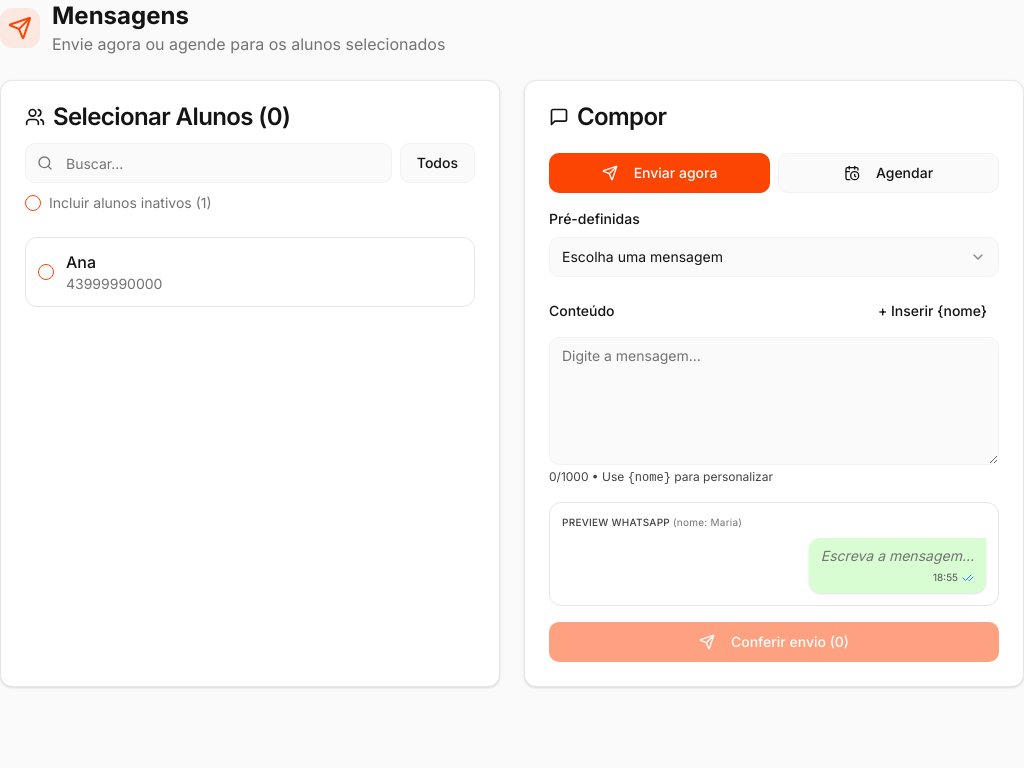
Test: requires acknowledgement of shared WhatsApp and inactive recipients
Click the checkbox named "Incluir alunos inativos". click: coordinates (33, 203)
box: [25, 195, 41, 211]
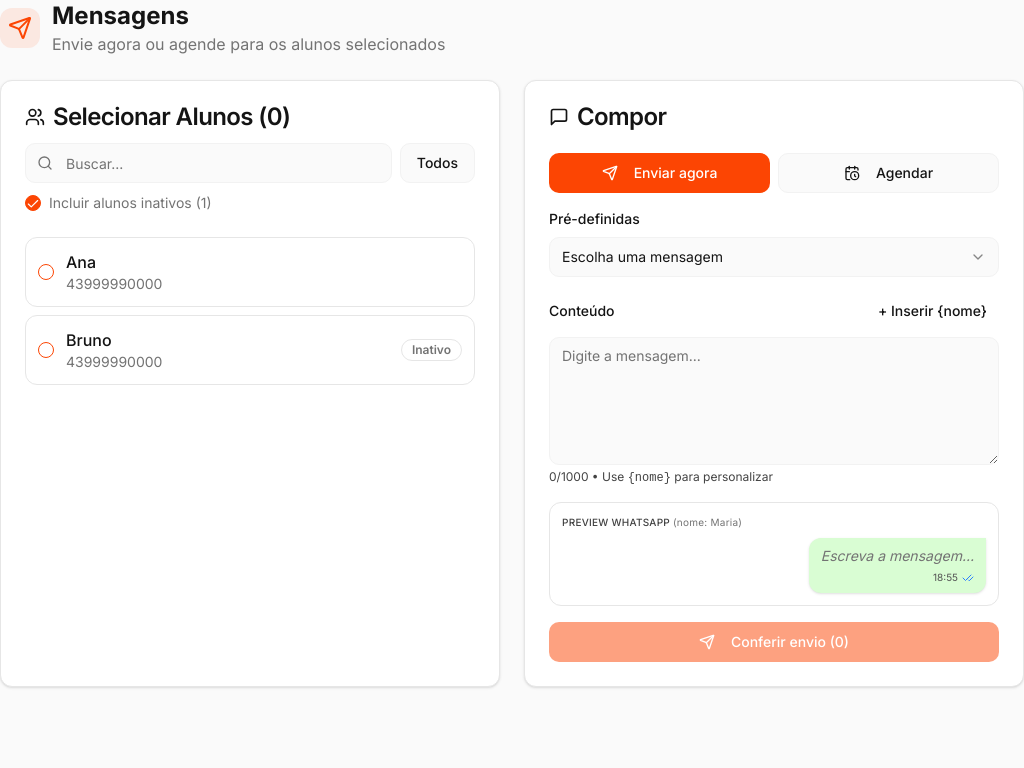
Click the button "Todos". click: coordinates (437, 163)
box: [400, 143, 475, 183]
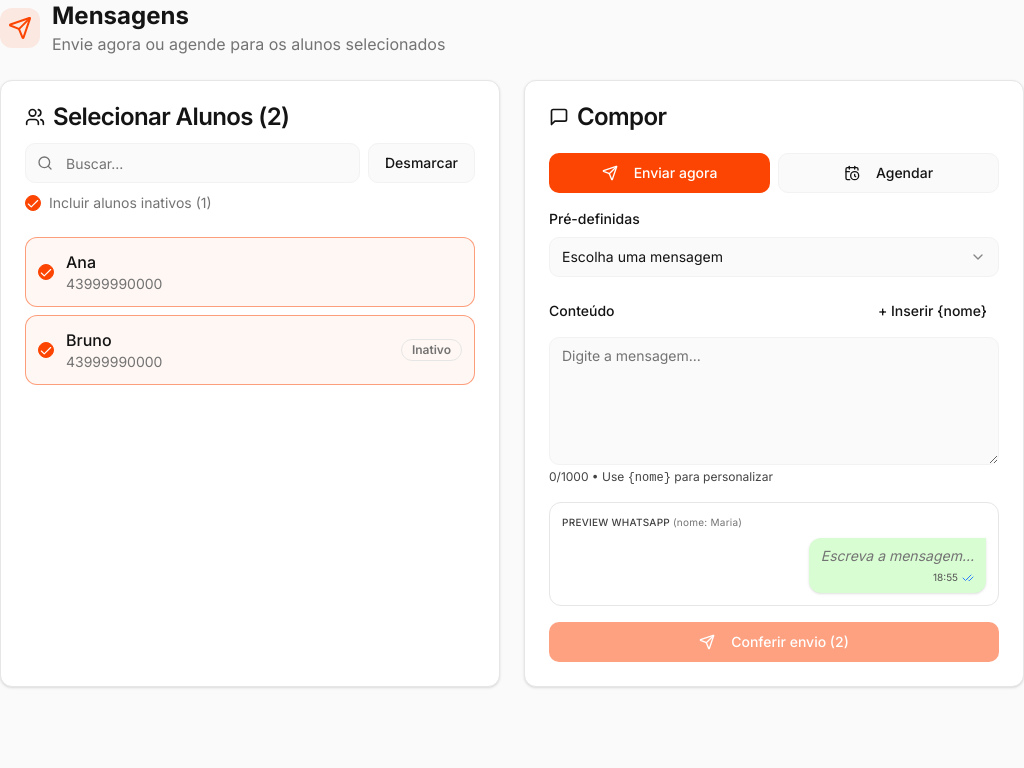
Type "Oi" into the text box labelled "Conteúdo". click: coordinates (774, 401)
box: [549, 337, 999, 465]
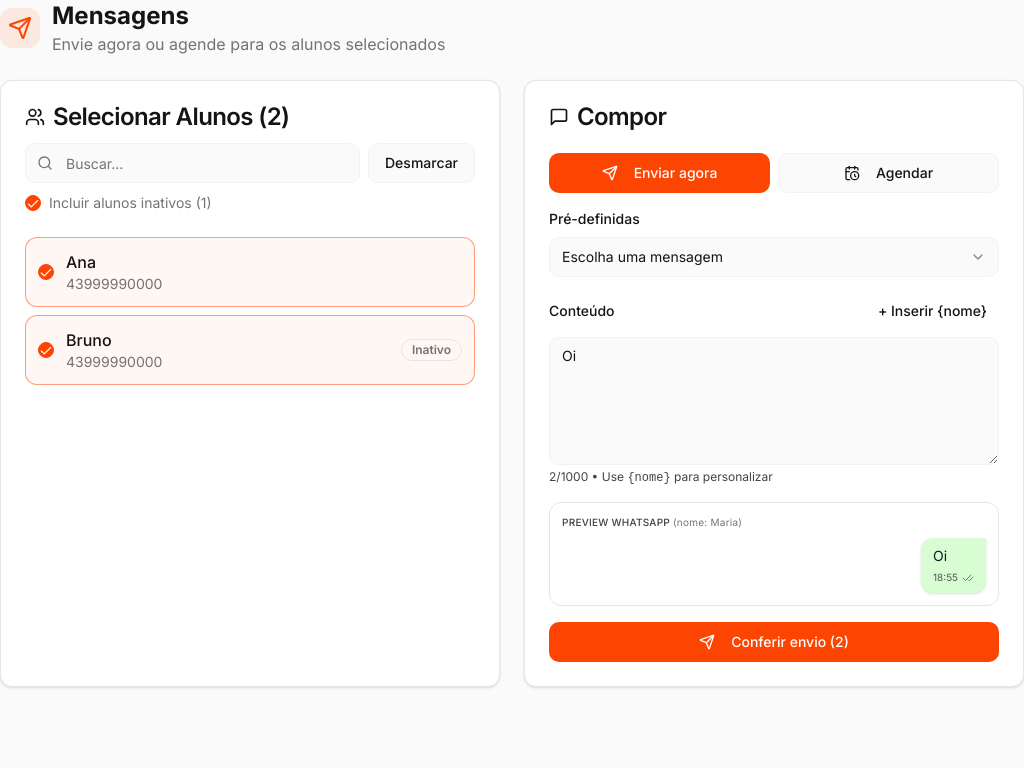
Click the button "Conferir envio (2)". click: coordinates (774, 642)
box: [549, 622, 999, 662]
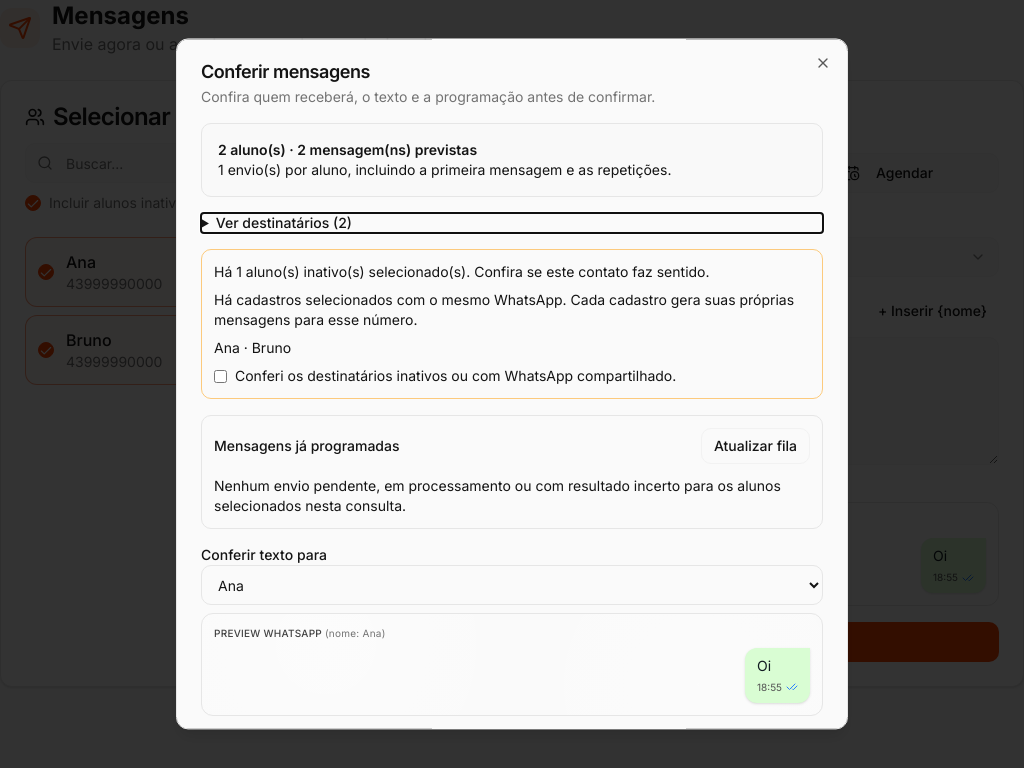
expect the text "Cada cadastro gera suas próprias mensagens" is shown: met, box [214, 291, 794, 328]
Click the checkbox labelled "Conferi os destinatários". click: coordinates (220, 377)
box: [214, 370, 227, 383]
(page scrolled)
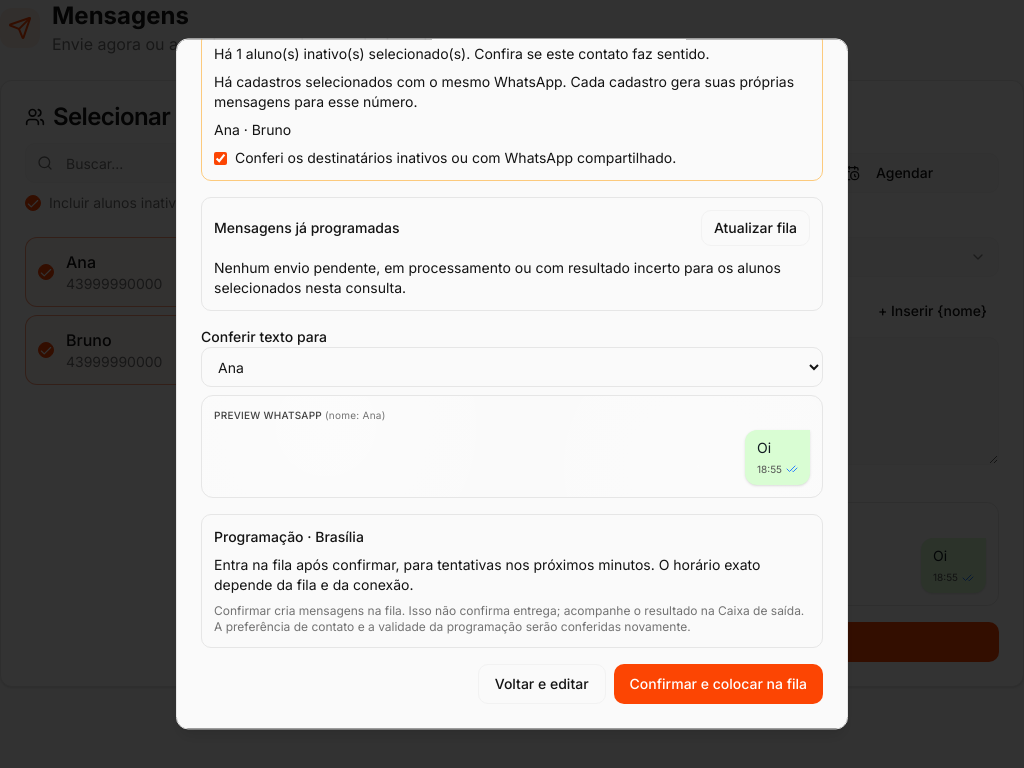
expect the button "Confirmar e colocar na fila" is enabled: met, box [614, 664, 823, 704]
